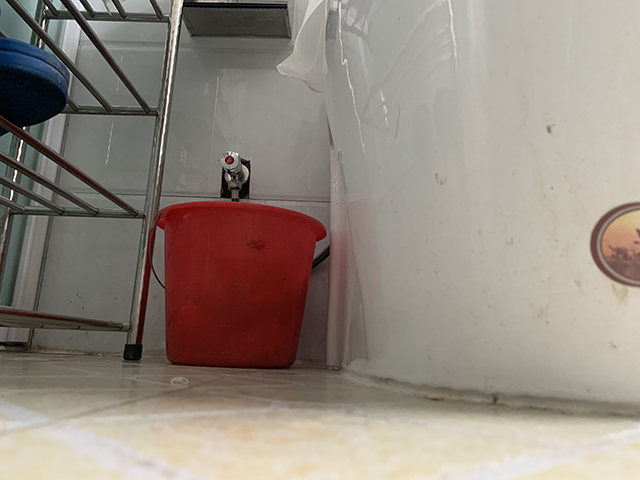closestool: (311, 1, 640, 420)
